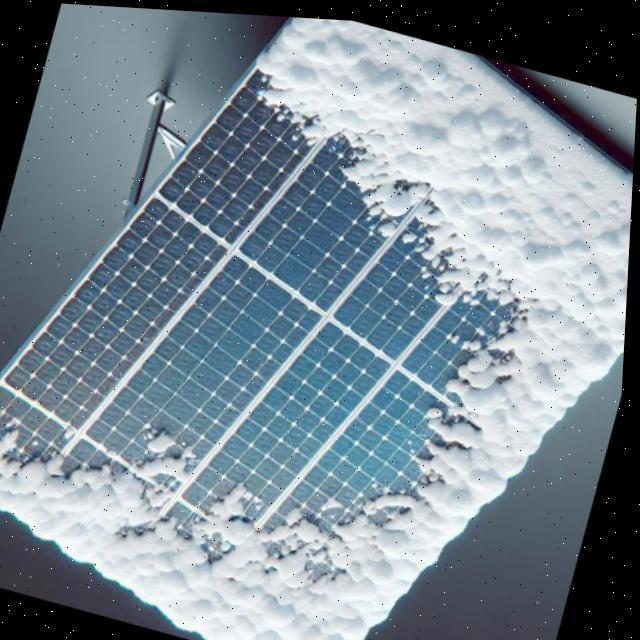Anomaly Solar Panel: (0, 14, 634, 640)
Snow: (0, 14, 634, 640)
